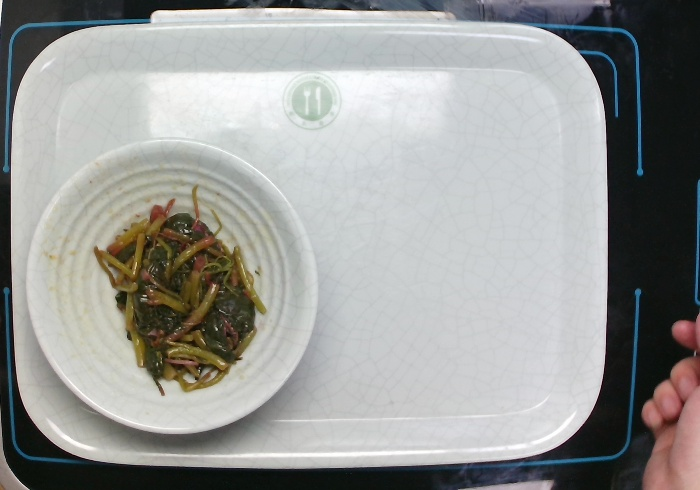JYsf-Xiao_Tang_Wan: (24, 134, 318, 435)
